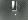person: (14, 3, 21, 15)
